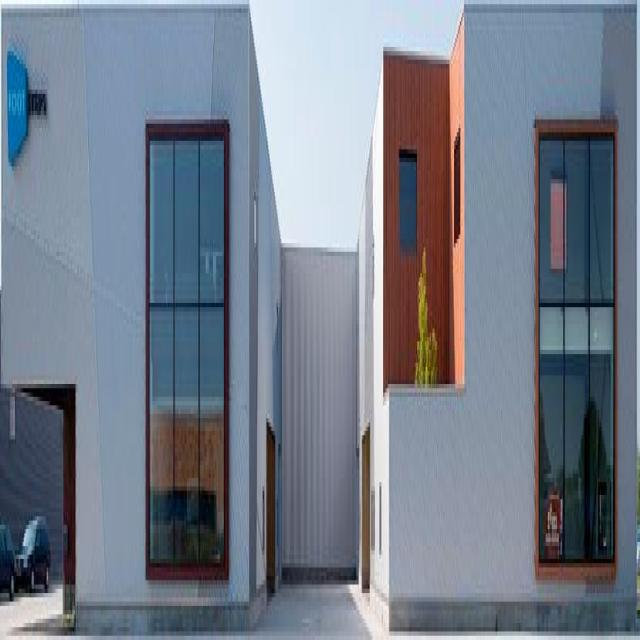wall: (0, 0, 637, 636)
windows: (538, 125, 613, 581), (150, 134, 226, 575), (399, 153, 416, 250)
